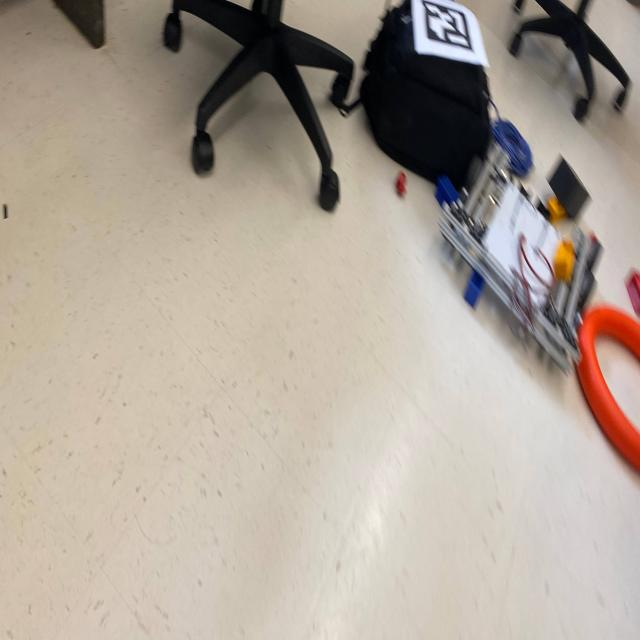blue-specimen: (463, 270, 484, 308), (435, 175, 459, 207)
red-specimen: (625, 270, 640, 318)
yellow-specimen: (554, 238, 575, 283), (546, 195, 567, 223)
